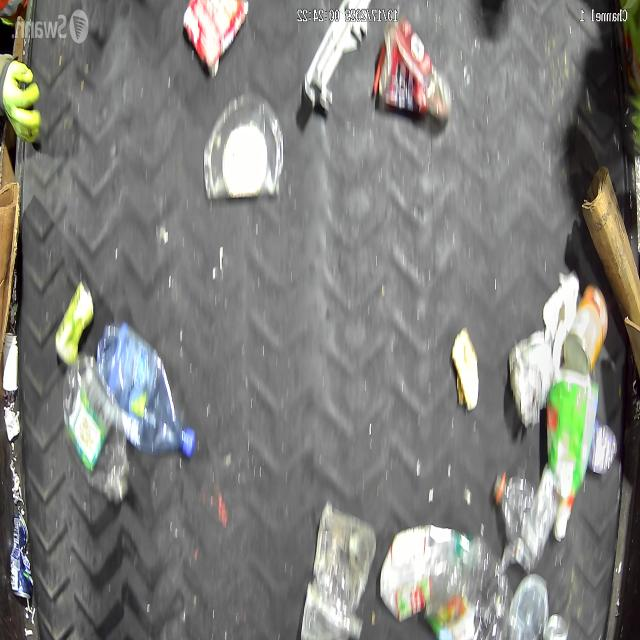can: (564, 286, 608, 375), (54, 280, 96, 364), (9, 510, 33, 600)
plastic_bottle: (95, 320, 196, 458), (61, 357, 130, 501), (492, 475, 550, 567)
